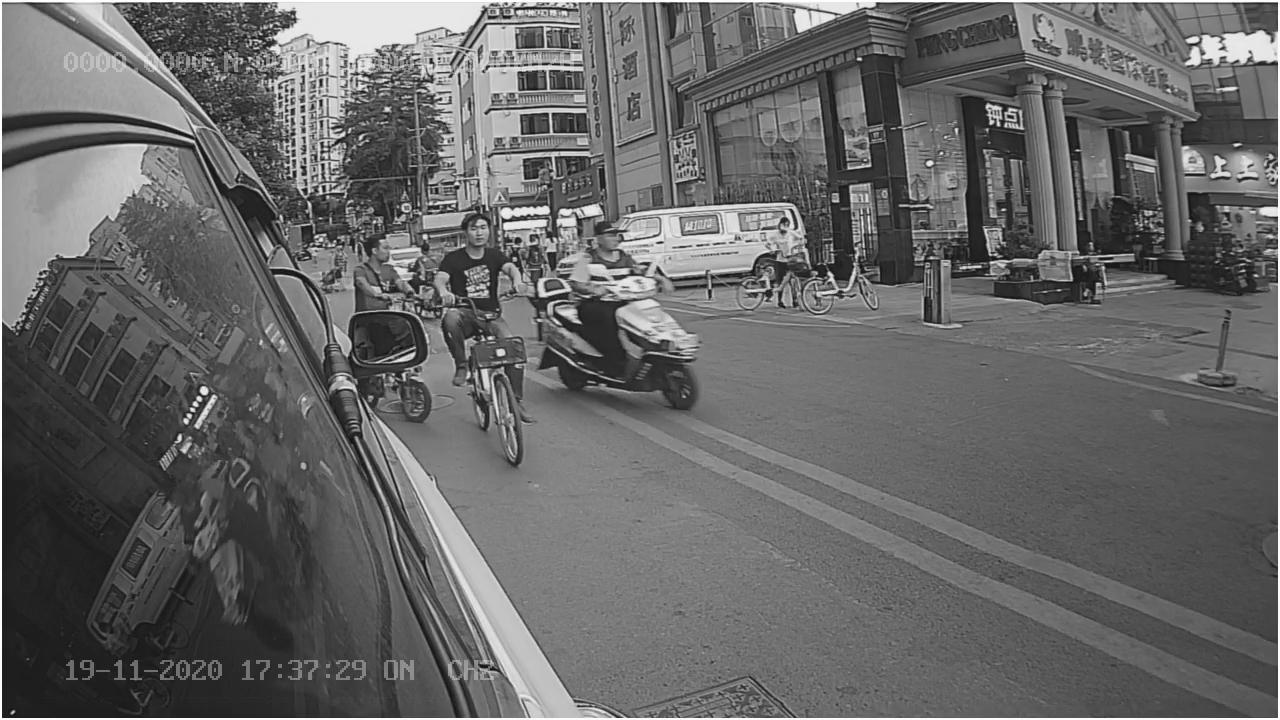person: (433, 212, 522, 297)
